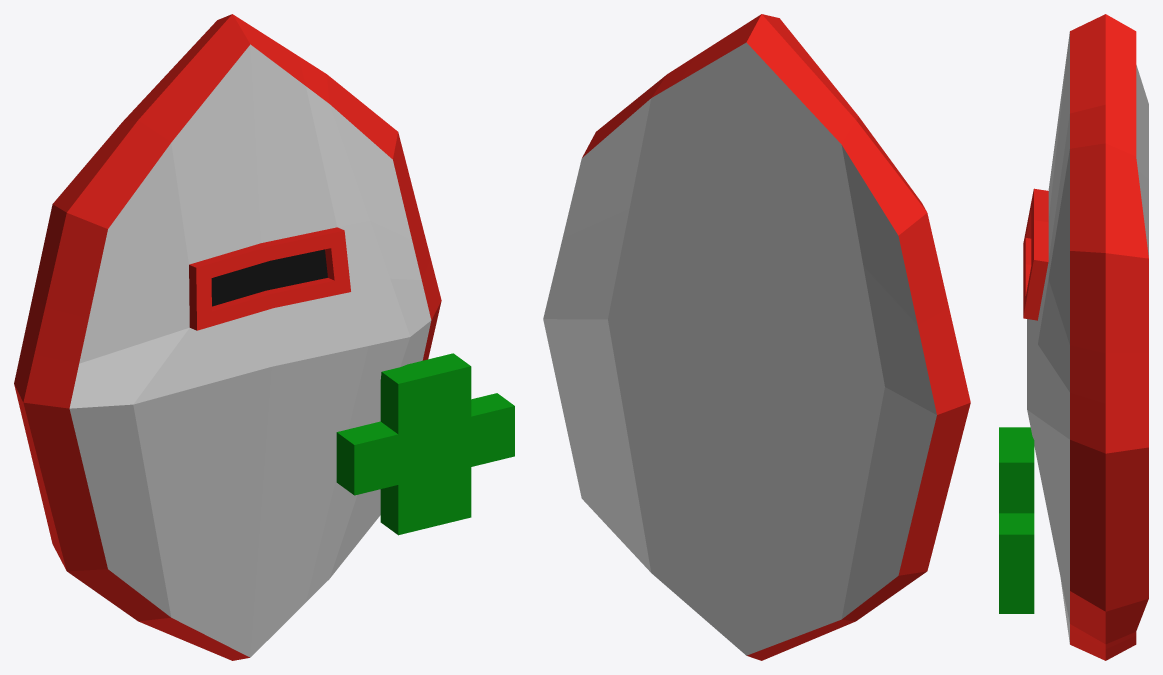
The model's file is shiprotoshieldpos.fbx.
3 renders of one model, left to right at view 1: azimuth 30°, elevation 25°; view 2: azimuth 150°, elevation 25°; view 3: azimuth 270°, elevation 25°, orthographic.
Visible parts, largest first — view 1: Cube; view 2: Cube; view 3: Cube.
Boxes of the visible parts, <box> form: Cube: <box>14,14,514,660</box>; Cube: <box>543,14,970,660</box>; Cube: <box>999,14,1148,660</box>.
Bounding box in the file's own units: 187 × 264 × 55.45.
